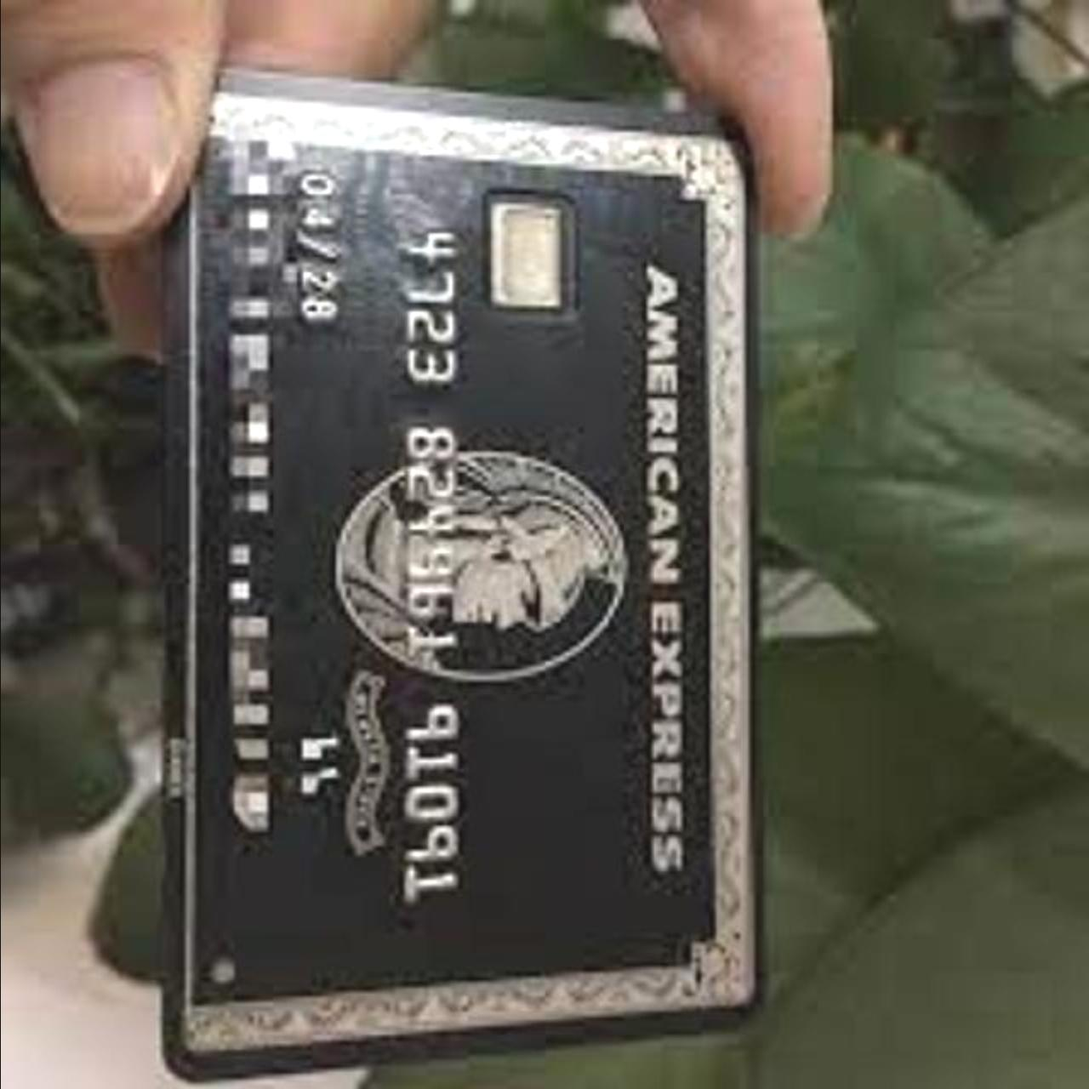credit_card: (160, 41, 755, 1089)
